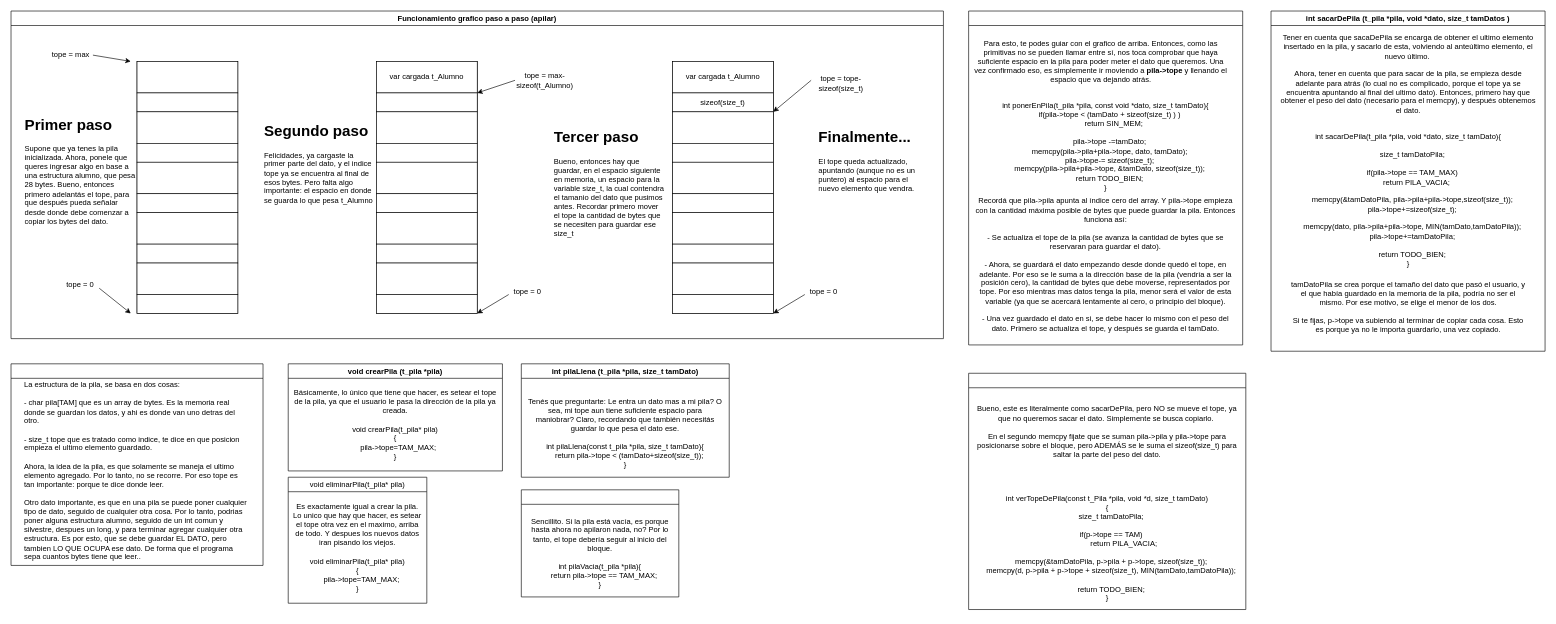
Some shapes in this 1556 by 624 pixel diagram are drawn without their labels. The shapes that lost their labels are listed below. From the top down, each one's box as (x1, y1, x2, y2) in pixels, then its label:
(968, 10, 1243, 345): int ponerEnPila (t_pila *pila, void *dato, size_t tamDatos )
(10, 363, 263, 565): Como funciona?
(968, 373, 1246, 610): int verTopeDePila (t_pila *pila, void *dato, size_t tamDato)
(521, 489, 679, 597): int pilaVacia(const t_pila *pila)
